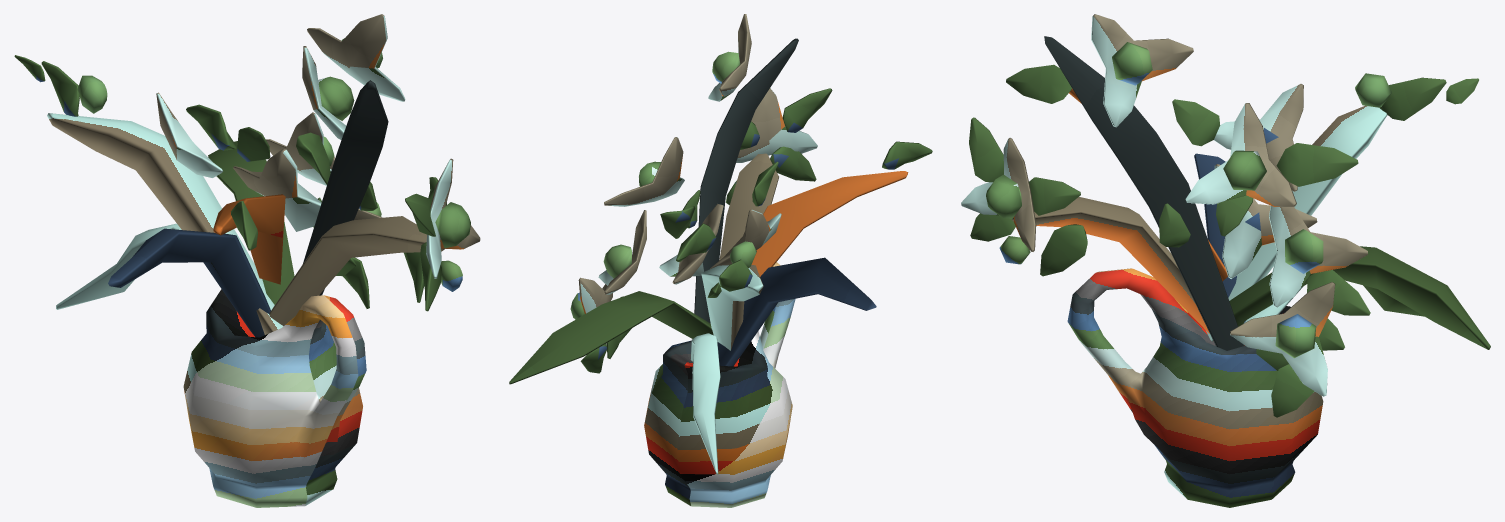
Rendered from P_AP31IrisVase.glb.
The picture shows the model from 3 angles, left to right: view 1: azimuth 30°, elevation 25°; view 2: azimuth 150°, elevation 25°; view 3: azimuth 270°, elevation 25°; orthographic projection. The views are drawn at different scales.
Parts seen in each view (by area): view 1: P_AP31IrisVase; view 2: P_AP31IrisVase; view 3: P_AP31IrisVase.
Part boxes in pixels (<box>): P_AP31IrisVase: <box>14,14,480,507</box>; P_AP31IrisVase: <box>509,14,932,507</box>; P_AP31IrisVase: <box>961,14,1490,507</box>.
Bounding box in the file's own units: 0.3769 × 0.577 × 0.5714.
Materials: 1 (1 with a texture image).
